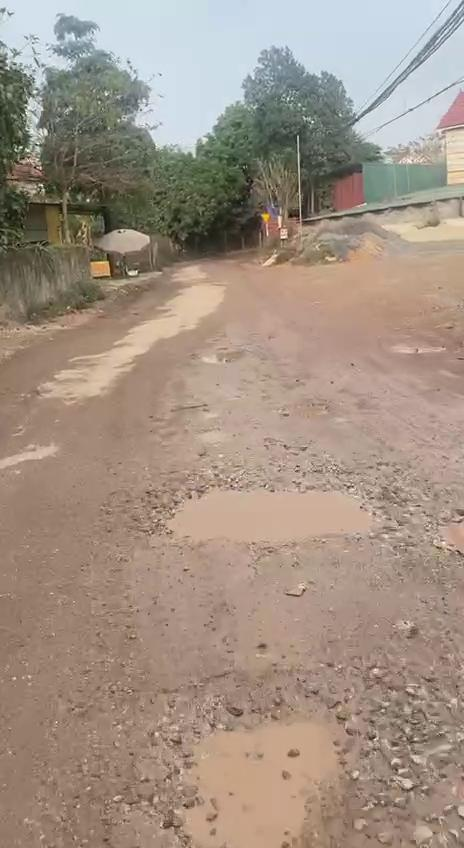pothole: (123, 680, 424, 848), (145, 468, 396, 560), (426, 500, 464, 557)
